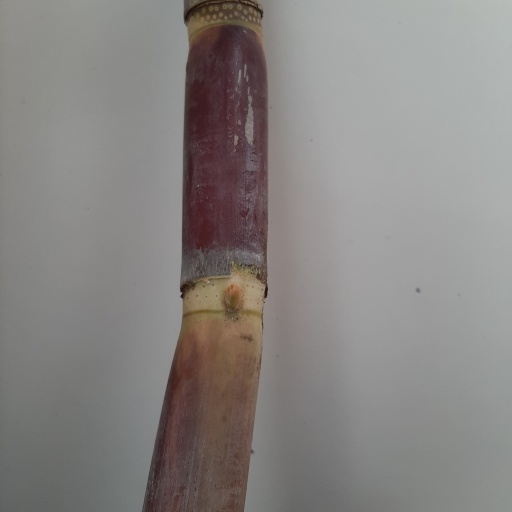Bud: (222, 284, 244, 316)
